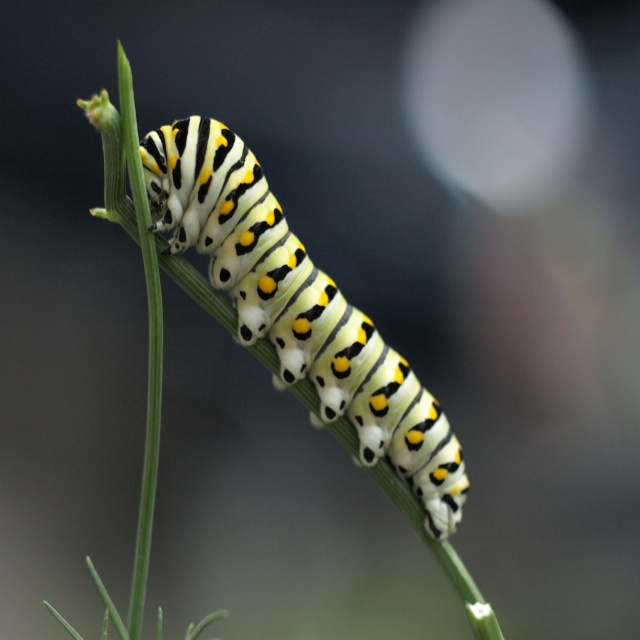Caterpillar: (138, 112, 470, 545)
